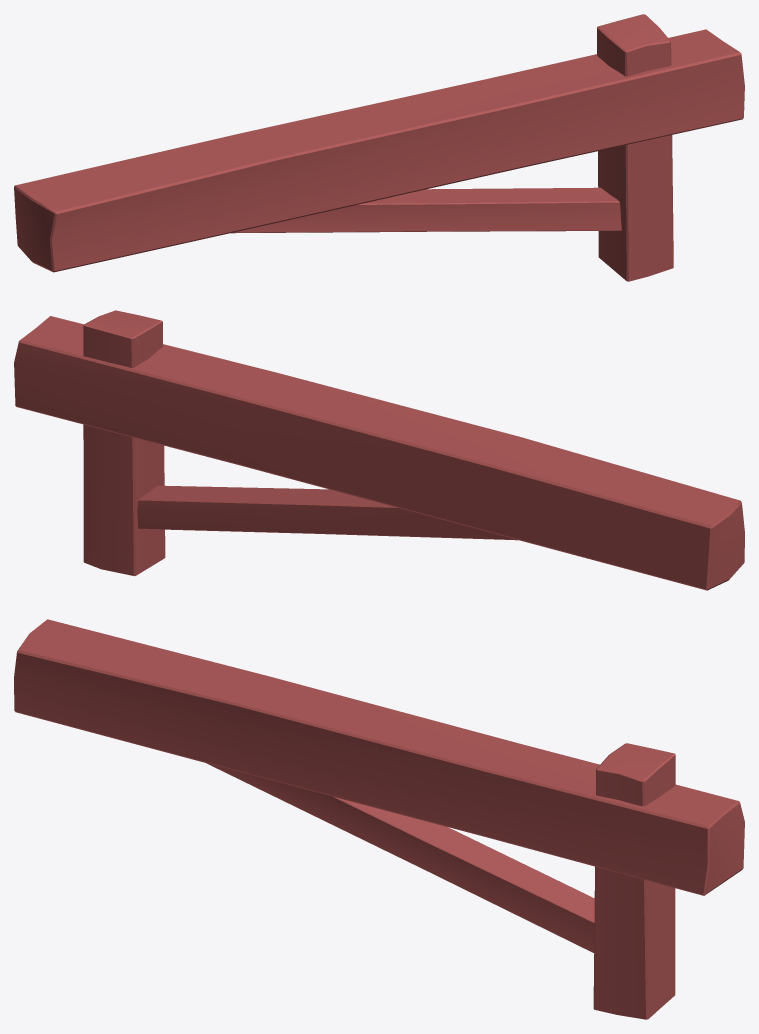
File: Beam_Structure_13B_Lod0.fbx
3 renders of one model, top to bottom at view 1: azimuth 30°, elevation 25°; view 2: azimuth 150°, elevation 25°; view 3: azimuth 330°, elevation 25°, orthographic. The views are drawn at different scales.
Parts seen in each view (by area): view 1: Beam_Structure_13B_Lod0; view 2: Beam_Structure_13B_Lod0; view 3: Beam_Structure_13B_Lod0.
Boxes of the visible parts, bbox=[...] form: Beam_Structure_13B_Lod0: bbox=[14, 14, 744, 281]; Beam_Structure_13B_Lod0: bbox=[14, 310, 744, 590]; Beam_Structure_13B_Lod0: bbox=[14, 619, 744, 1019].
Size of the model in its own units: 132 by 43.48 by 17.32.
